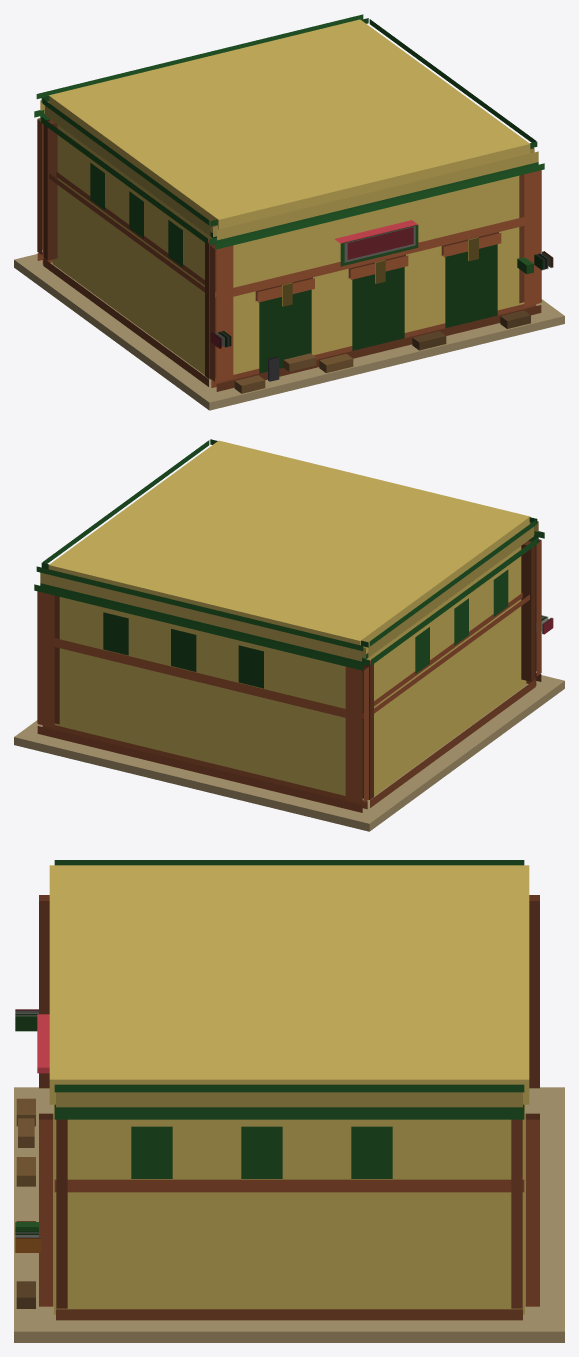
Rendered from MelonArmadilloSil.fbx.
The picture shows the model from 3 angles, top to bottom: view 1: azimuth 30°, elevation 25°; view 2: azimuth 150°, elevation 25°; view 3: azimuth 270°, elevation 25°; orthographic projection. The views are drawn at different scales.
Visible parts, largest first — view 1: ME_S_All; view 2: ME_S_All; view 3: ME_S_All.
Part boxes in pixels (x1,y1,x2,y2): ME_S_All: (14, 14, 564, 410); ME_S_All: (14, 439, 564, 831); ME_S_All: (14, 860, 564, 1342).
Bounding box in the file's own units: 42.04 × 19.9 × 40.04.
